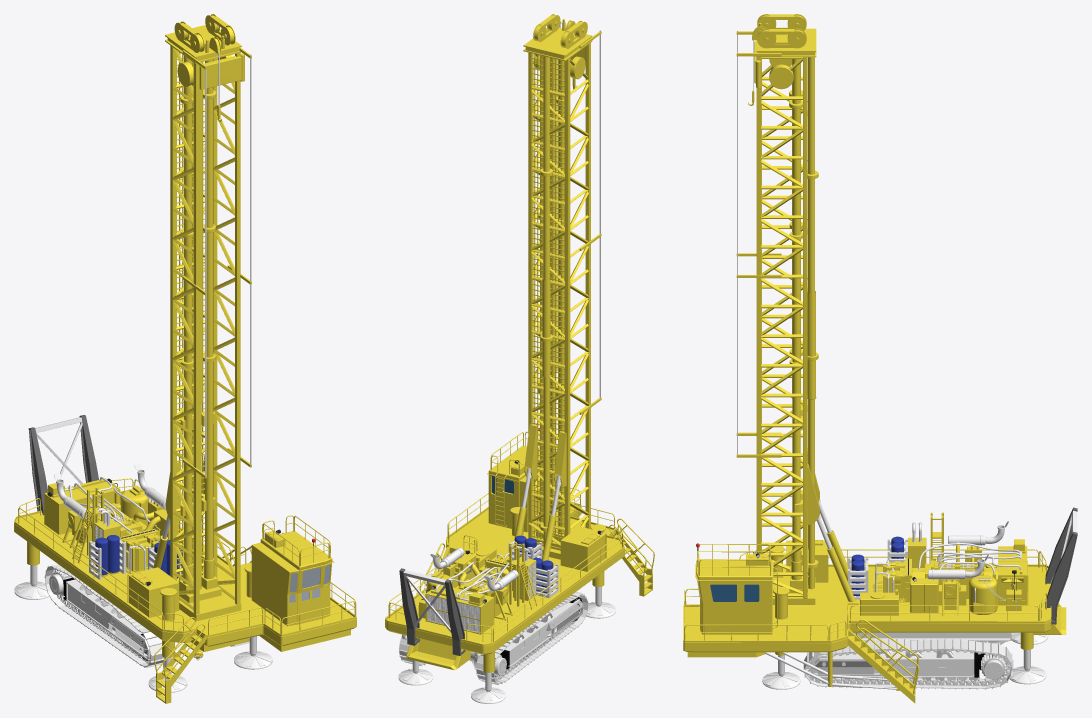
File: drill.fbx
The picture shows the model from 3 angles, left to right: view 1: azimuth 30°, elevation 25°; view 2: azimuth 150°, elevation 25°; view 3: azimuth 270°, elevation 25°; orthographic projection. The views are drawn at different scales.
Parts seen in each view (by area): view 1: polySurface370, polySurface30, pCylinder59, pCube39, polySurface203, pCube40, pCube42, Cylinder179, pCube41, pCylinder49, pCube35, polySurface102 (+20 smaller); view 2: polySurface370, pCylinder60, pCube40, pCube39, pCube41, polySurface30, Cylinder179, pCylinder49, pCube35, polySurface102, polySurface203, pCube336 (+25 smaller); view 3: polySurface370, polySurface30, Cylinder179, pCylinder59, pCylinder60, pCube42, pCube41, polySurface56, pCube334, polySurface102, polySurface220, polySurface216 (+12 smaller).
Boxes of the visible parts, x1=… form: polySurface370: x1=14, y1=512, x2=356, y2=646; polySurface30: x1=251, y1=531, x2=332, y2=626; pCylinder59: x1=201, y1=59, x2=216, y2=578; pCube39: x1=193, y1=63, x2=199, y2=614; polySurface203: x1=180, y1=55, x2=193, y2=583; pCube40: x1=170, y1=45, x2=176, y2=580; pCube42: x1=235, y1=52, x2=240, y2=604; Cylinder179: x1=49, y1=570, x2=150, y2=660; pCube41: x1=213, y1=58, x2=217, y2=577; pCylinder49: x1=199, y1=62, x2=202, y2=589; pCube35: x1=127, y1=567, x2=179, y2=617; polySurface102: x1=44, y1=479, x2=120, y2=534; polySurface370: x1=385, y1=505, x2=624, y2=654; pCylinder60: x1=542, y1=56, x2=550, y2=547; pCube40: x1=565, y1=58, x2=570, y2=536; pCube39: x1=585, y1=43, x2=590, y2=528; pCube41: x1=528, y1=52, x2=533, y2=538; polySurface30: x1=488, y1=446, x2=557, y2=532; Cylinder179: x1=469, y1=597, x2=583, y2=677; pCylinder49: x1=550, y1=58, x2=557, y2=537; pCube35: x1=560, y1=526, x2=606, y2=571; polySurface102: x1=427, y1=585, x2=494, y2=634; polySurface203: x1=556, y1=60, x2=563, y2=534; pCube336: x1=405, y1=639, x2=470, y2=669; polySurface370: x1=683, y1=566, x2=1051, y2=652; polySurface30: x1=696, y1=559, x2=772, y2=634; Cylinder179: x1=811, y1=641, x2=1006, y2=681; pCylinder59: x1=789, y1=59, x2=802, y2=580; pCylinder60: x1=807, y1=57, x2=816, y2=589; pCube42: x1=756, y1=57, x2=761, y2=554; pCube41: x1=803, y1=57, x2=807, y2=598; polySurface56: x1=683, y1=564, x2=1051, y2=642; pCube334: x1=853, y1=632, x2=1011, y2=640; polySurface102: x1=998, y1=546, x2=1027, y2=605; polySurface220: x1=928, y1=521, x2=1008, y2=579; polySurface216: x1=847, y1=629, x2=915, y2=703.
Size of the model in its own units: 105 by 369 by 207.
